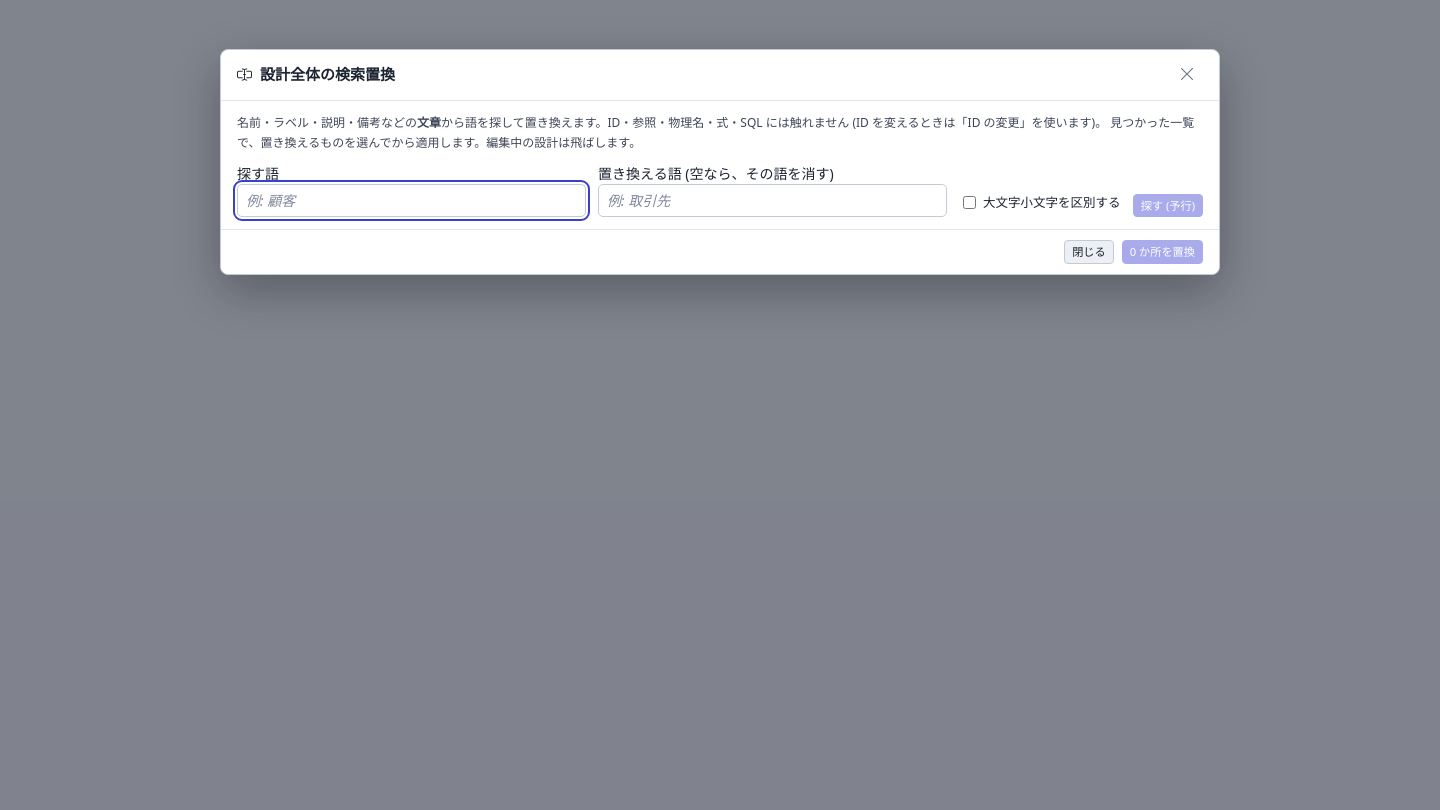
ReplaceDialog (設計全体の検索置換) › 探す → 一覧に置換後の文言つきで出る → 全部選択された状態で適用できる。適用には、予行で見せた文言を渡す
The image size is (1440, 810).
Type "顧客" into the field with test id "replace-query" at (412, 201), box [237,184,586,217]
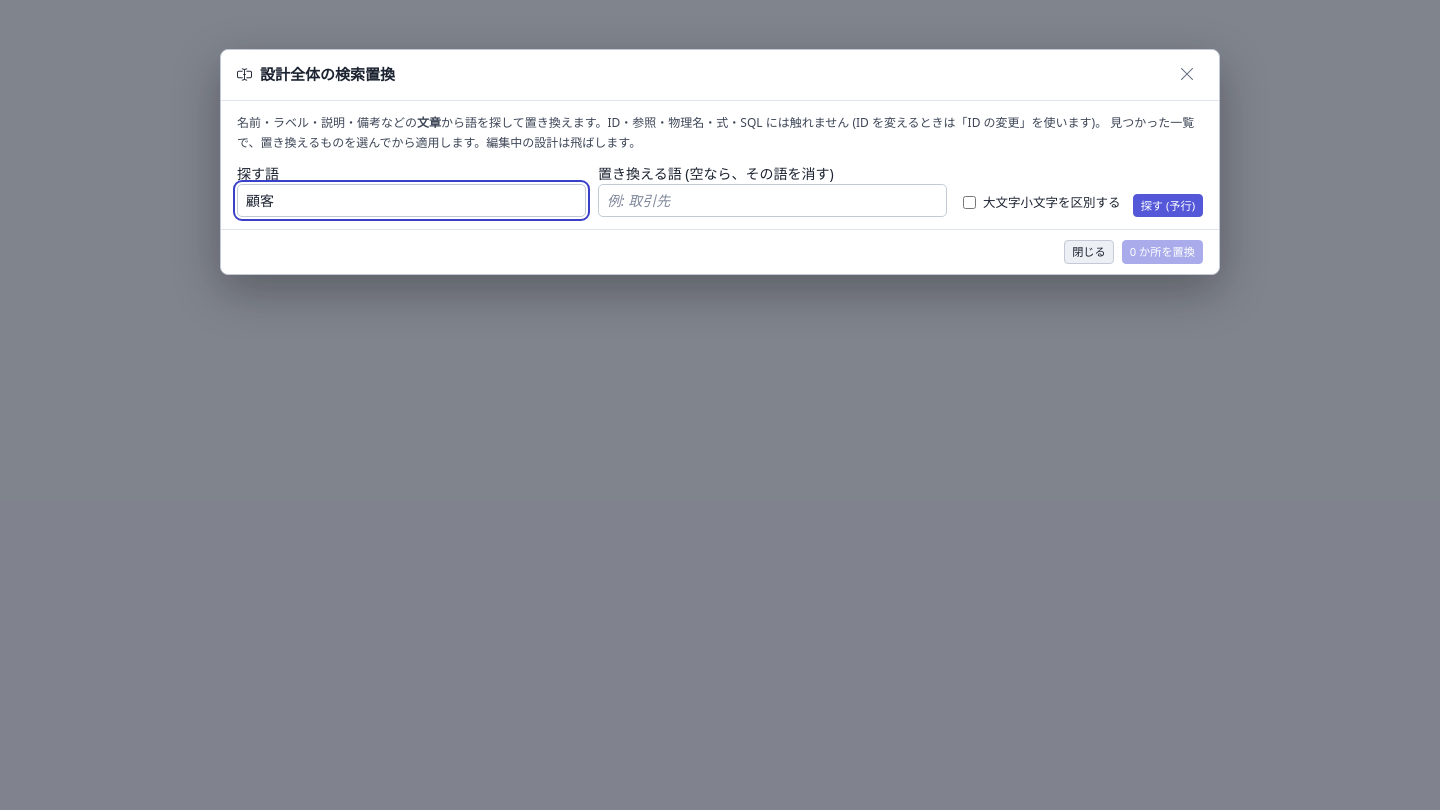
Type "取引先" into the field with test id "replace-replacement" at (773, 201), box [598,184,947,217]
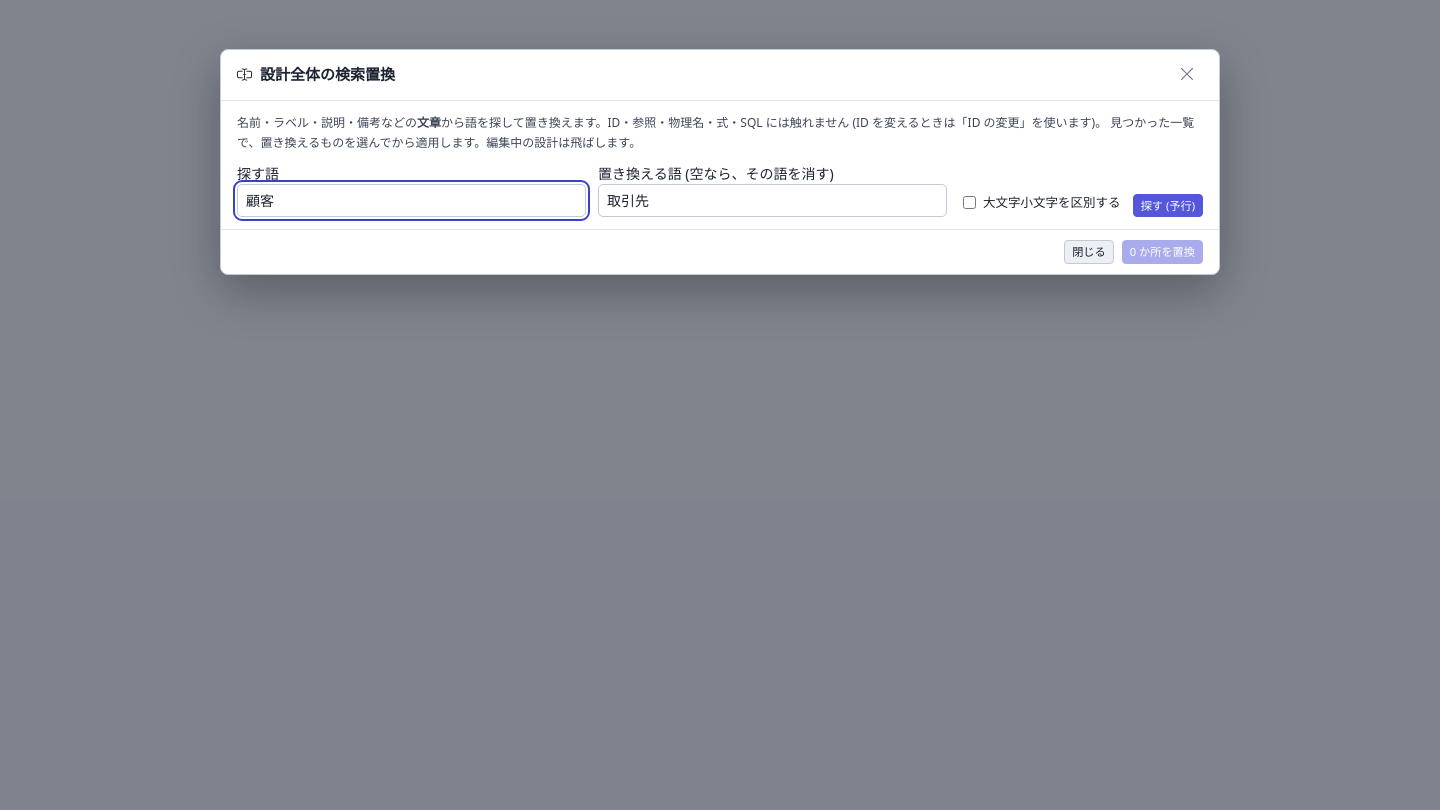
Click the button with test id "replace-search" at (1168, 206), box [1133,194,1203,217]
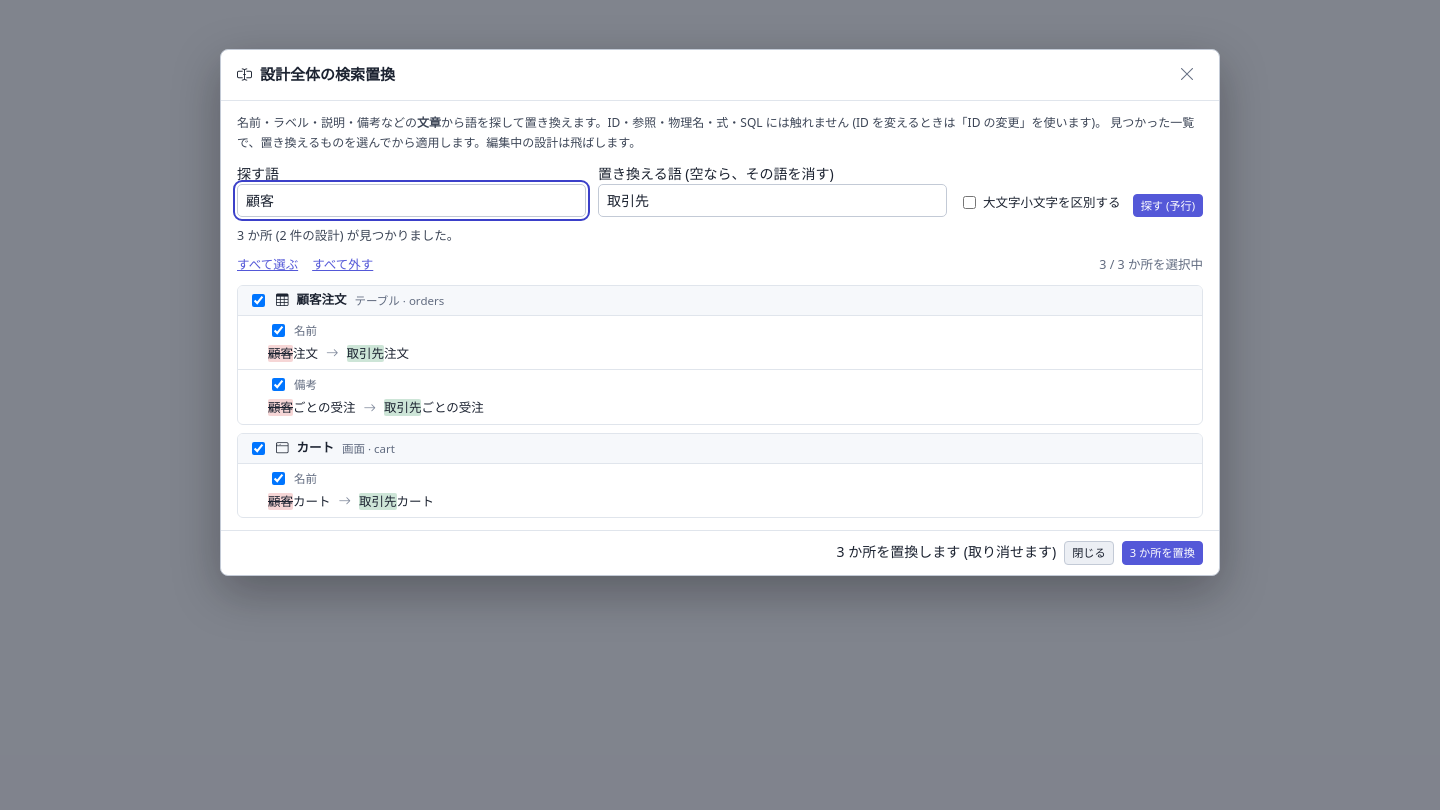
Now the text with test id "replace-summary" shows "3 か所", box [237,227,459,244]
Now the number of elements with test id "replace-group" is 2, box [237,285,1203,425]; [237,433,1203,518]
Now the button with test id "replace-apply" reads "3 か所を置換"
Click the button with test id "replace-apply" at (1162, 553), box [1122,541,1203,565]
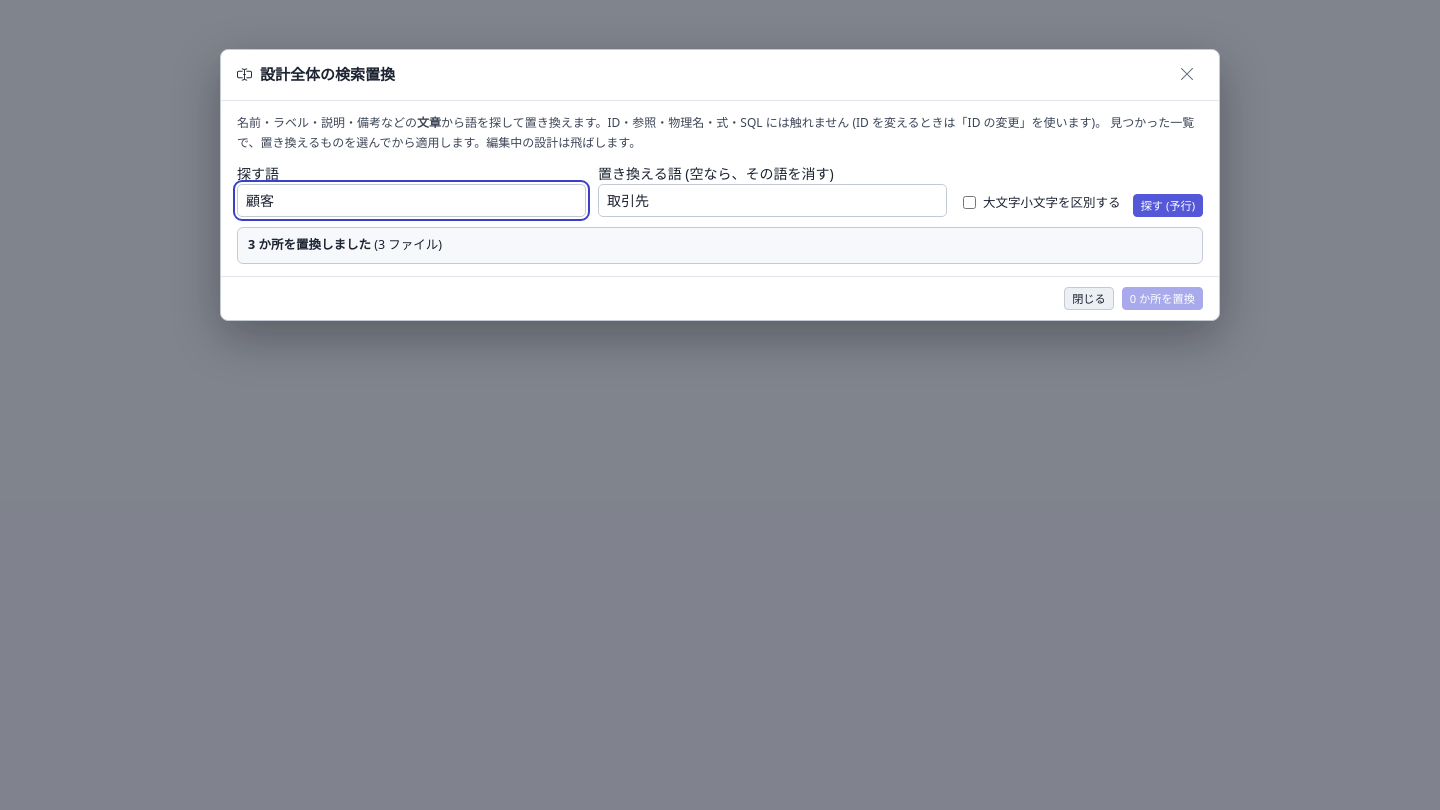
Now the message with test id "replace-result" shows "3 か所を置換しました", box [237,227,1203,264]
